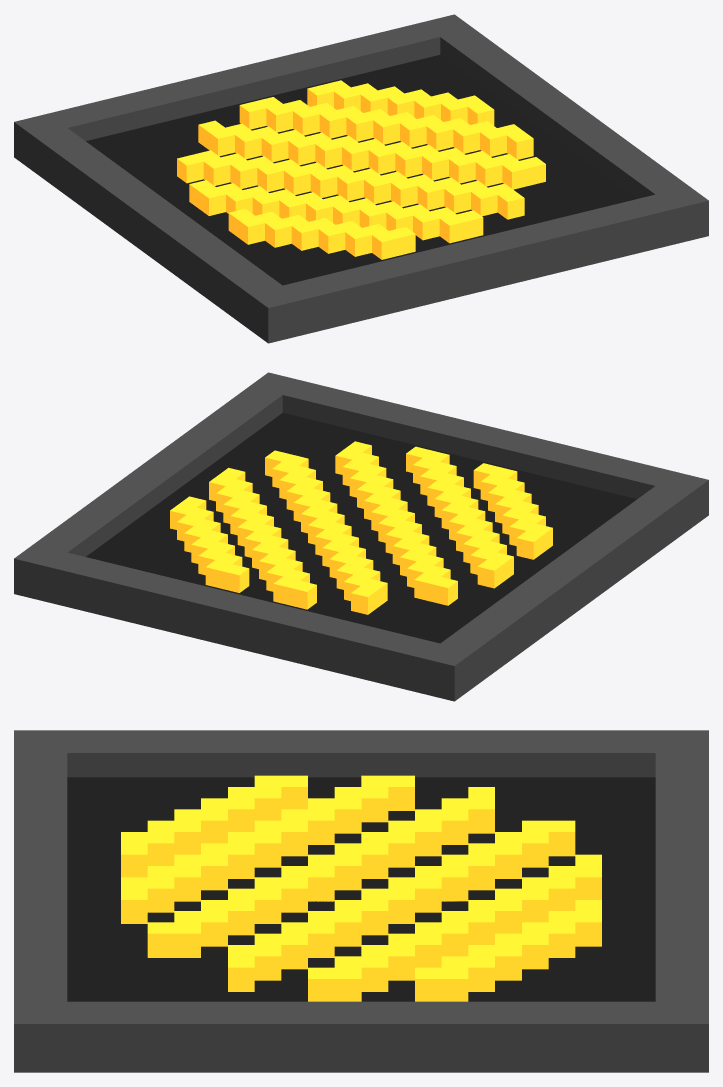
Rendered from trap_GRILL_ORANGE.glb.
The picture shows the model from 3 angles, top to bottom: view 1: azimuth 30°, elevation 25°; view 2: azimuth 150°, elevation 25°; view 3: azimuth 270°, elevation 25°; orthographic projection. The views are drawn at different scales.
Visible parts, largest first — view 1: item_TRAP_GRILL_ORANGE; view 2: item_TRAP_GRILL_ORANGE; view 3: item_TRAP_GRILL_ORANGE.
Boxes of the visible parts, bbox=[...] form: item_TRAP_GRILL_ORANGE: bbox=[14, 14, 708, 343]; item_TRAP_GRILL_ORANGE: bbox=[14, 372, 708, 701]; item_TRAP_GRILL_ORANGE: bbox=[14, 730, 708, 1072].
Bounding box in the file's own units: 0.5909 × 0.0455 × 0.5909.
Materials: 1 (1 with a texture image).
